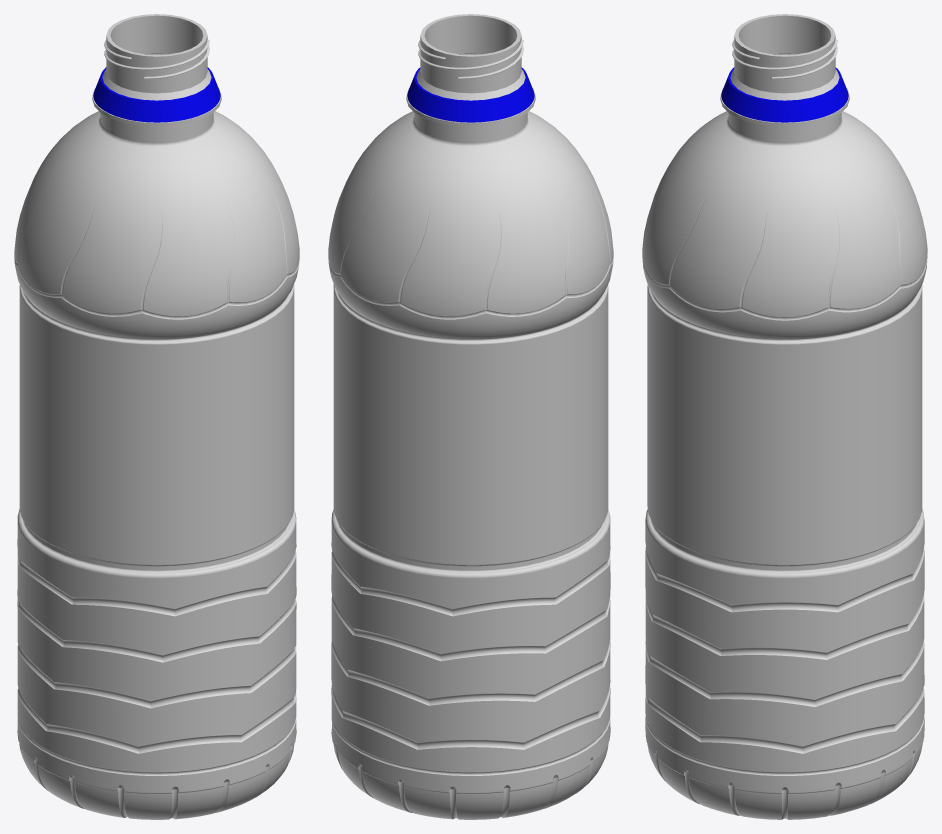
File: Bottle.glb
The picture shows the model from 3 angles, left to right: view 1: azimuth 30°, elevation 25°; view 2: azimuth 150°, elevation 25°; view 3: azimuth 270°, elevation 25°; orthographic projection.
Visible parts, largest first — view 1: Bottle3; view 2: Bottle3; view 3: Bottle3.
Part boxes in pixels (x1,y1,x2,y2): Bottle3: (14,14,299,819); Bottle3: (328,14,613,819); Bottle3: (642,14,927,819).
Bounding box in the file's own units: 0.0706 × 0.2022 × 0.0706.
